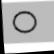no answer: (11, 9, 38, 35)
